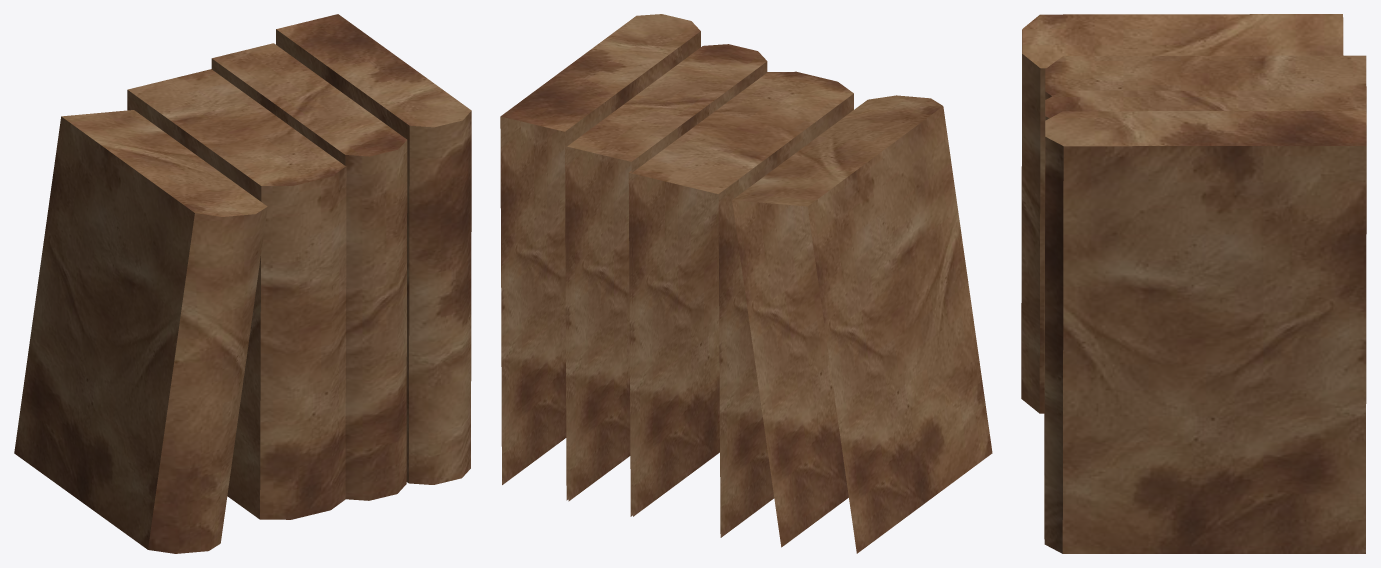
Rendered from tr_books_row_1.glb.
The picture shows the model from 3 angles, left to right: view 1: azimuth 30°, elevation 25°; view 2: azimuth 150°, elevation 25°; view 3: azimuth 270°, elevation 25°; orthographic projection. The views are drawn at different scales.
Visible parts, largest first — view 1: model; view 2: model; view 3: model.
Boxes of the visible parts, x1,y1,x2,y2 form: model: (14,14,471,553); model: (500,14,992,553); model: (1021,14,1366,553).
Bounding box in the file's own units: 0.2893 × 0.2983 × 0.2256.
1 material, 1 textured.
